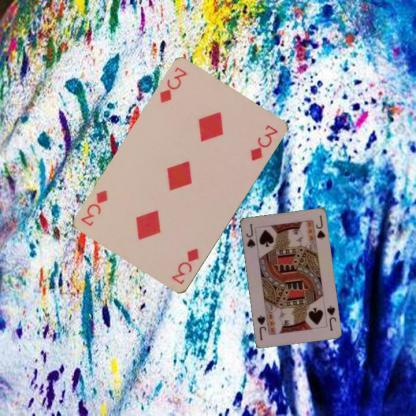3d: (157, 64, 188, 106), (168, 246, 200, 286)
Js: (324, 303, 338, 332), (243, 221, 256, 249)
